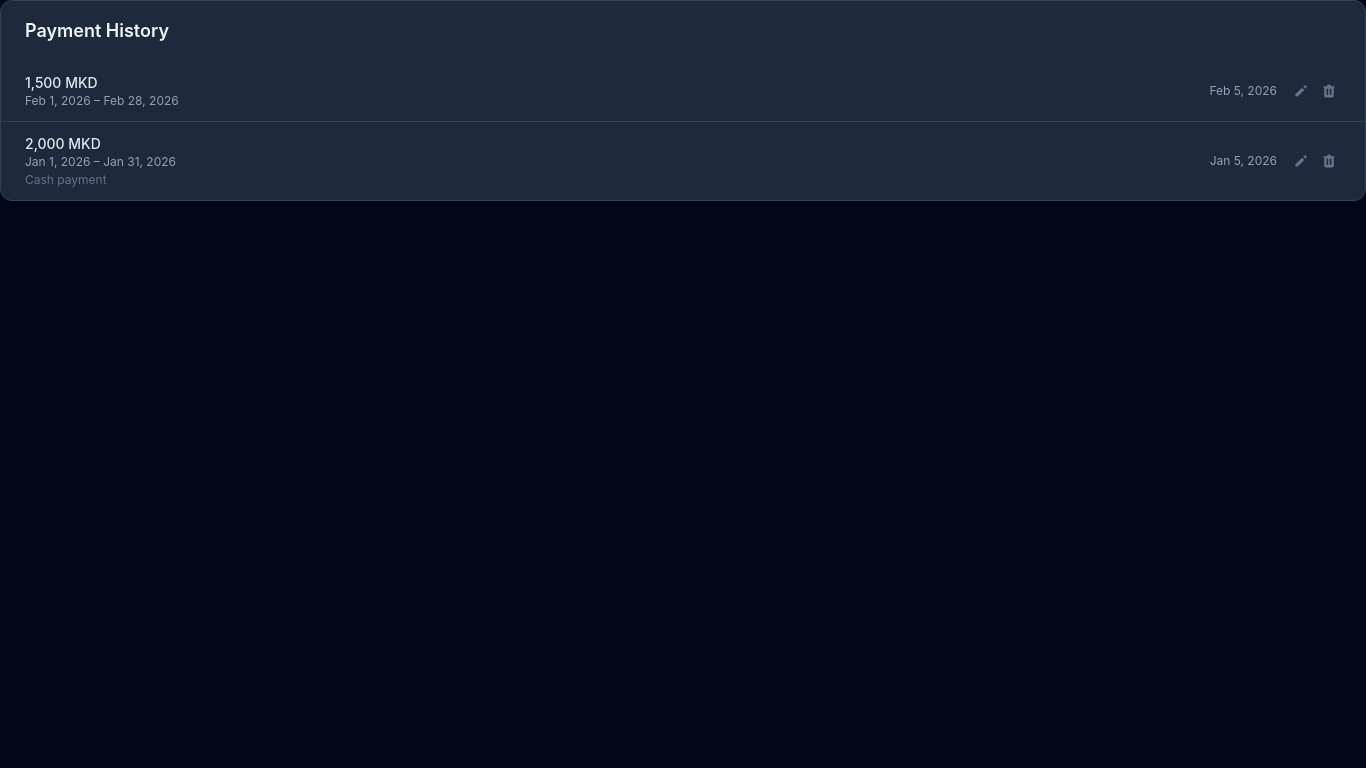
Test: PaymentHistory › delete flow › shows delete confirmation without member name when prop not provided
This screenshot has width=1366, height=768.
What coordinates should you click on to do the following:
click the button named "Delete payment for 1,500 MKD"
I would click on:
 (1329, 91)
Its box is [1317,79,1341,103].
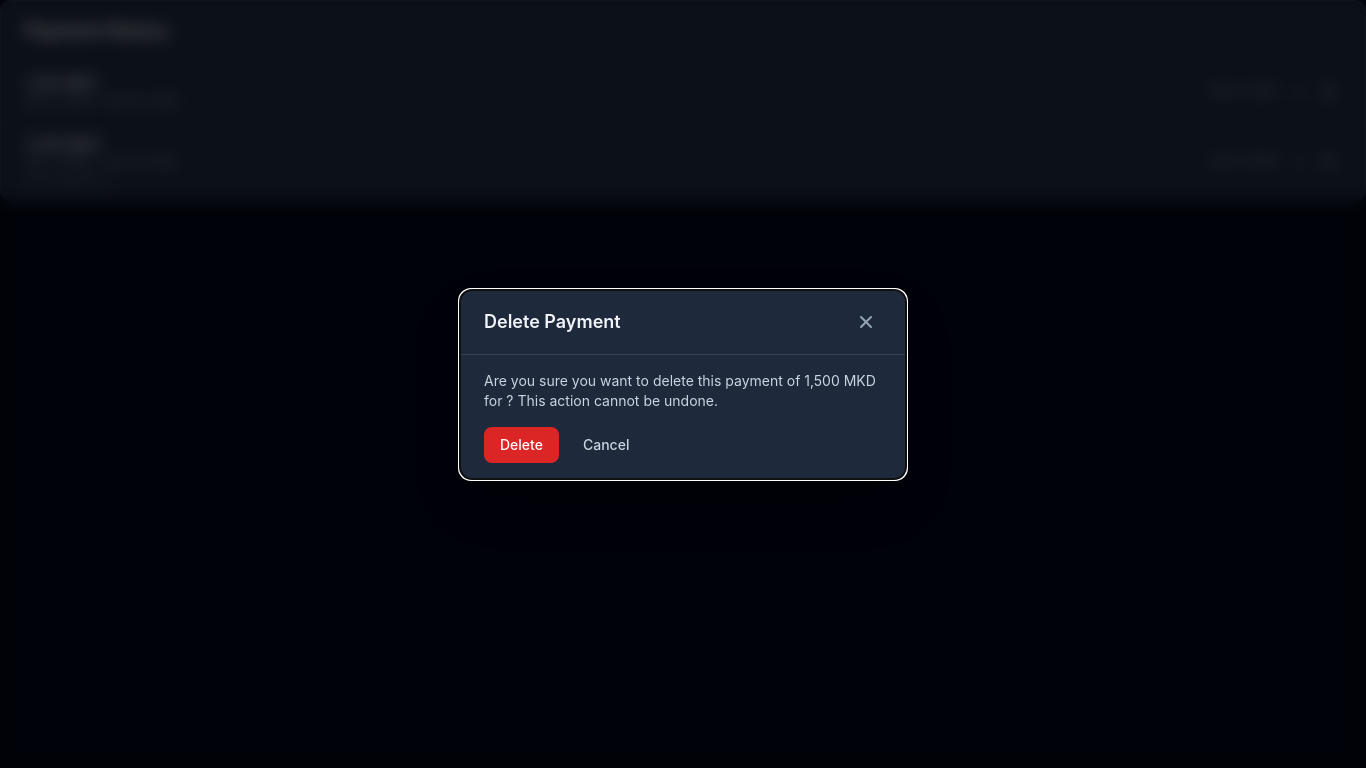
Expected: the heading "Delete Payment" is shown, [484,308,621,336]
Expected: the text "cannot be undone" is shown, [484,372,876,408]
